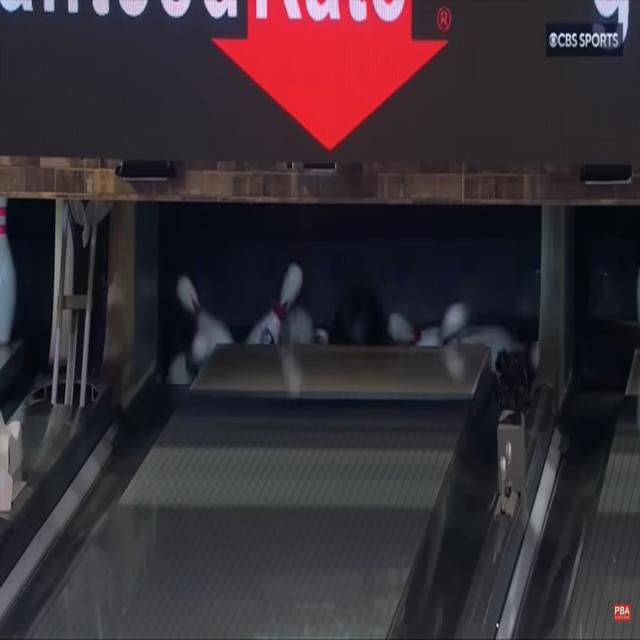alley: (39, 344, 489, 638)
bottle: (388, 302, 524, 369), (169, 276, 232, 384), (248, 262, 312, 344), (373, 0, 404, 22)
